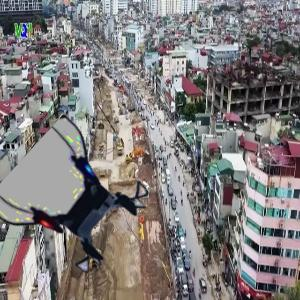drone: (9, 135, 143, 269)
